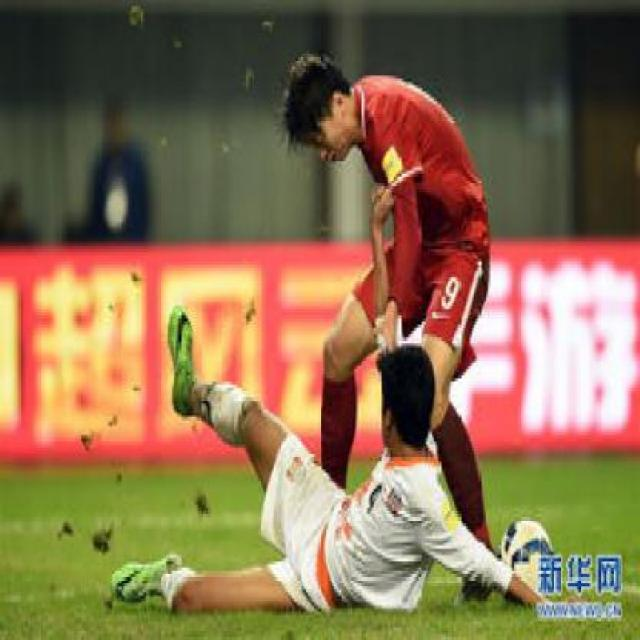fall: (88, 268, 564, 624)
